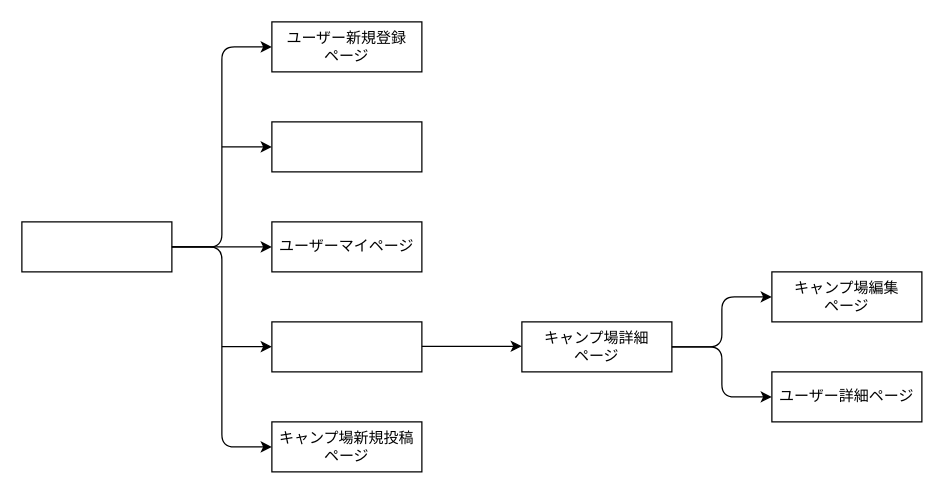
Some shapes in this 944 by 494 pixel diagram are drawn without their labels. The centre of each missing label's shape, as x and y in pixels:
"キャンプ場一覧 ページ" belongs at (346,346).
"トップページ" belongs at (96,246).
"ユーザーログイン" belongs at (346,146).
